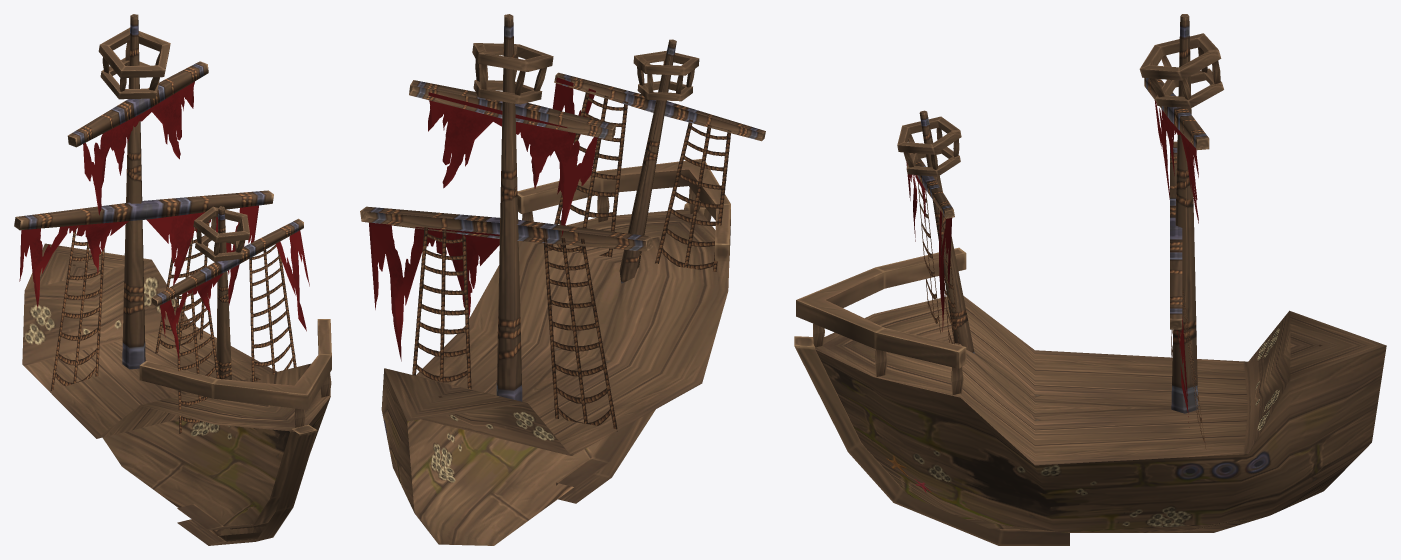
Rendered from ship.FBX.
The picture shows the model from 3 angles, left to right: view 1: azimuth 30°, elevation 25°; view 2: azimuth 150°, elevation 25°; view 3: azimuth 270°, elevation 25°; orthographic projection. The views are drawn at different scales.
Parts seen in each view (by area): view 1: Object002; view 2: Object002; view 3: Object002.
Boxes of the visible parts, box(x1,y1,x2,y2) form: Object002: box(14, 14, 331, 545); Object002: box(360, 14, 765, 545); Object002: box(794, 14, 1386, 545).
Size of the model in its own units: 944 by 1694 by 1658.
